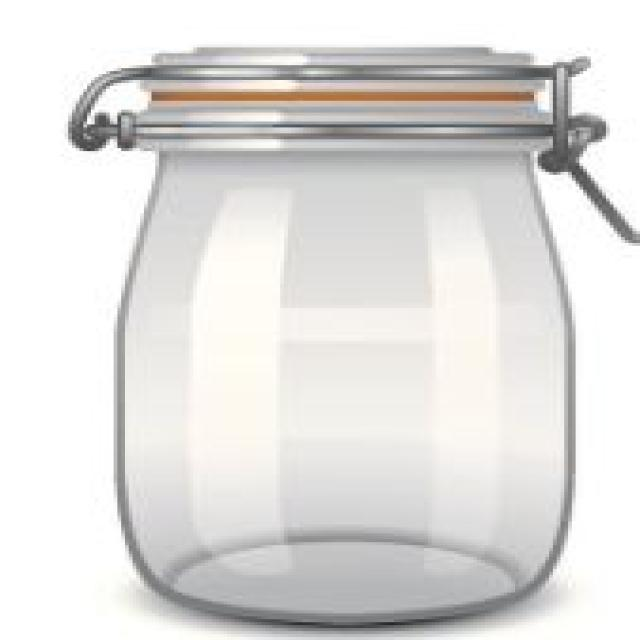electronic: (116, 47, 579, 635)
